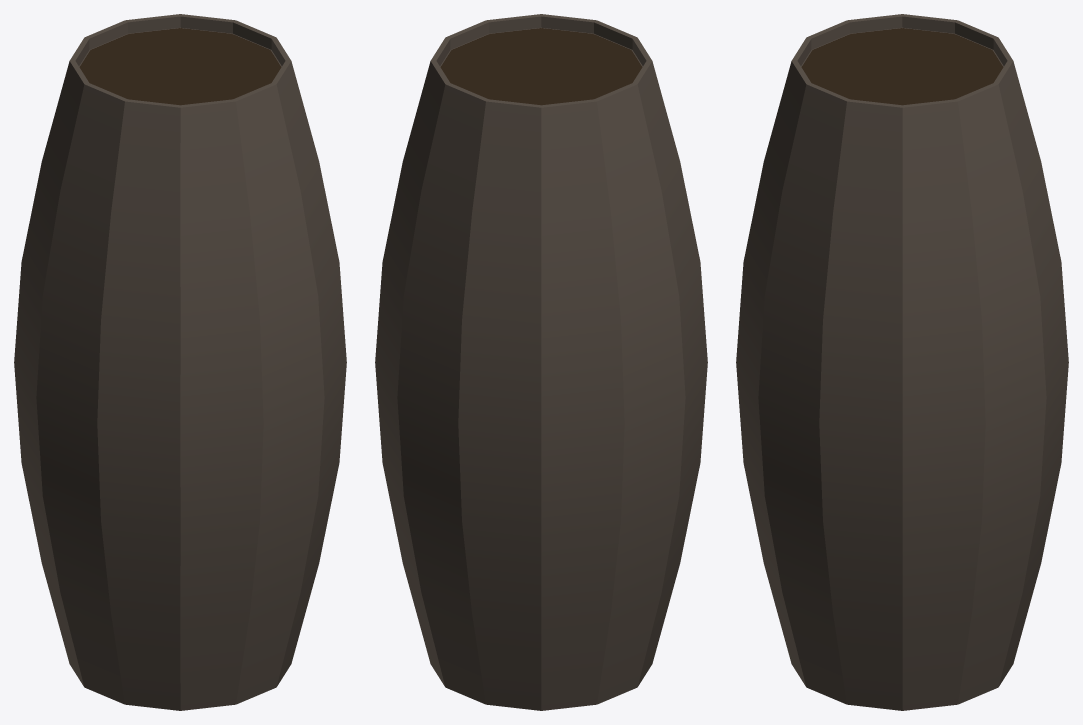
Rendered from Vasovazio.fbx.
3 views of the same model, side by side, from view 1: azimuth 30°, elevation 25°; view 2: azimuth 150°, elevation 25°; view 3: azimuth 270°, elevation 25° (orthographic).
Visible parts, largest first — view 1: Vaso1; view 2: Vaso1; view 3: Vaso1.
Boxes of the visible parts, left/top/right/bottom form: Vaso1: left=14, top=14, right=346, bottom=710; Vaso1: left=375, top=14, right=707, bottom=710; Vaso1: left=736, top=14, right=1068, bottom=710.
Size of the model in its own units: 4.5 by 9 by 4.5.
